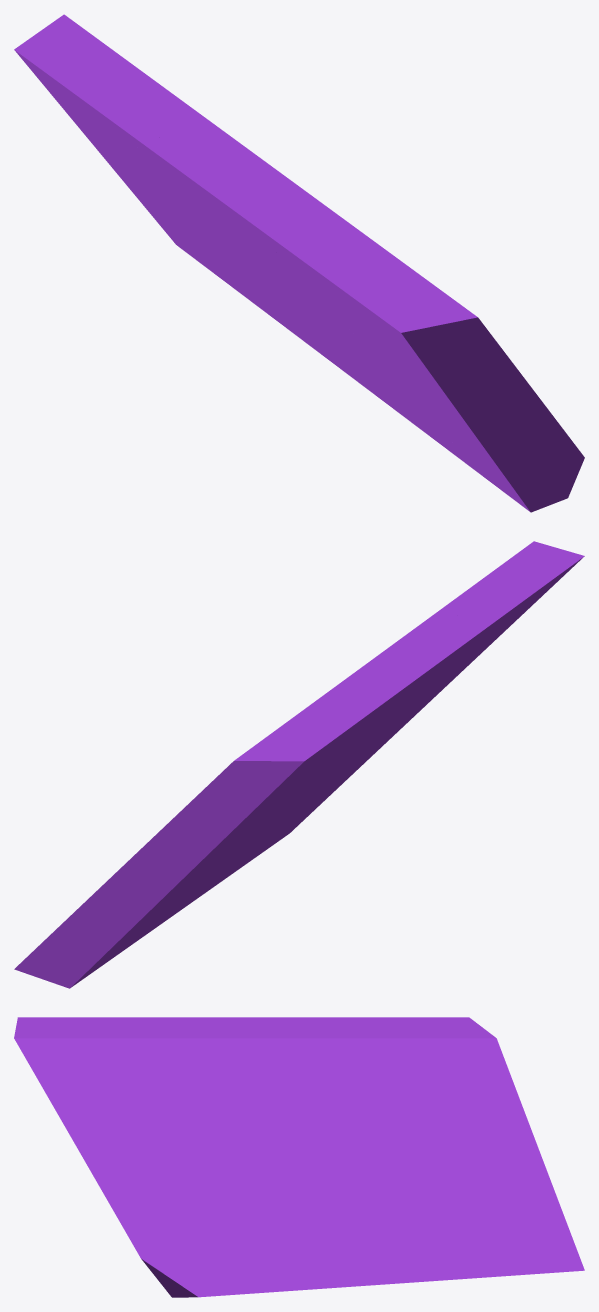
Rendered from Window_121_0_chunks.fbx.
3 views of the same model, one above another, from view 1: azimuth 30°, elevation 25°; view 2: azimuth 150°, elevation 25°; view 3: azimuth 270°, elevation 25° (orthographic). The views are drawn at different scales.
Parts seen in each view (by area): view 1: Window_121_0_1, Window_121_0_4, Window_121_0_0, Window_121_0_3, Window_121_0_5, Window_121_0_11, Window_121_0_7, Window_121_0_6, Window_121_0_2, Window_121_0_9; view 2: Window_121_0_6, Window_121_0_5, Window_121_0_1, Window_121_0_4, Window_121_0_0, Window_121_0_7, Window_121_0_2, Window_121_0_9, Window_121_0_3, Window_121_0_11; view 3: Window_121_0_0, Window_121_0_6, Window_121_0_3, Window_121_0_4, Window_121_0_1, Window_121_0_12, Window_121_0_11, Window_121_0_10, Window_121_0_7, Window_121_0_2, Window_121_0_5, Window_121_0_8 (+1 smaller).
Boxes of the visible parts, x1=… form: Window_121_0_1: x1=252, y1=223, x2=503, y2=417; Window_121_0_4: x1=131, y1=135, x2=357, y2=291; Window_121_0_0: x1=46, y1=14, x2=240, y2=185; Window_121_0_3: x1=375, y1=352, x2=565, y2=471; Window_121_0_5: x1=14, y1=27, x2=213, y2=229; Window_121_0_11: x1=396, y1=387, x2=584, y2=512; Window_121_0_7: x1=195, y1=227, x2=366, y2=388; Window_121_0_6: x1=89, y1=140, x2=300, y2=338; Window_121_0_2: x1=206, y1=210, x2=439, y2=421; Window_121_0_9: x1=353, y1=352, x2=465, y2=456; Window_121_0_6: x1=14, y1=817, x2=226, y2=988; Window_121_0_5: x1=174, y1=724, x2=359, y2=865; Window_121_0_1: x1=386, y1=541, x2=584, y2=729; Window_121_0_4: x1=353, y1=605, x2=476, y2=739; Window_121_0_0: x1=208, y1=667, x2=388, y2=785; Window_121_0_7: x1=147, y1=765, x2=331, y2=933; Window_121_0_2: x1=302, y1=714, x2=395, y2=801; Window_121_0_9: x1=190, y1=794, x2=316, y2=903; Window_121_0_3: x1=334, y1=689, x2=442, y2=783; Window_121_0_11: x1=282, y1=772, x2=354, y2=834; Window_121_0_0: x1=266, y1=1017, x2=507, y2=1209; Window_121_0_6: x1=400, y1=1101, x2=584, y2=1283; Window_121_0_3: x1=45, y1=1087, x2=227, y2=1218; Window_121_0_4: x1=154, y1=1017, x2=332, y2=1124; Window_121_0_1: x1=14, y1=1017, x2=191, y2=1091; Window_121_0_12: x1=220, y1=1175, x2=386, y2=1275; Window_121_0_11: x1=118, y1=1189, x2=228, y2=1290; Window_121_0_10: x1=167, y1=1241, x2=356, y2=1297; Window_121_0_7: x1=332, y1=1192, x2=401, y2=1281; Window_121_0_2: x1=224, y1=1111, x2=277, y2=1186; Window_121_0_5: x1=388, y1=1017, x2=520, y2=1132; Window_121_0_8: x1=355, y1=1129, x2=433, y2=1192.
Size of the model in its own units: 390 by 395 by 1011.
